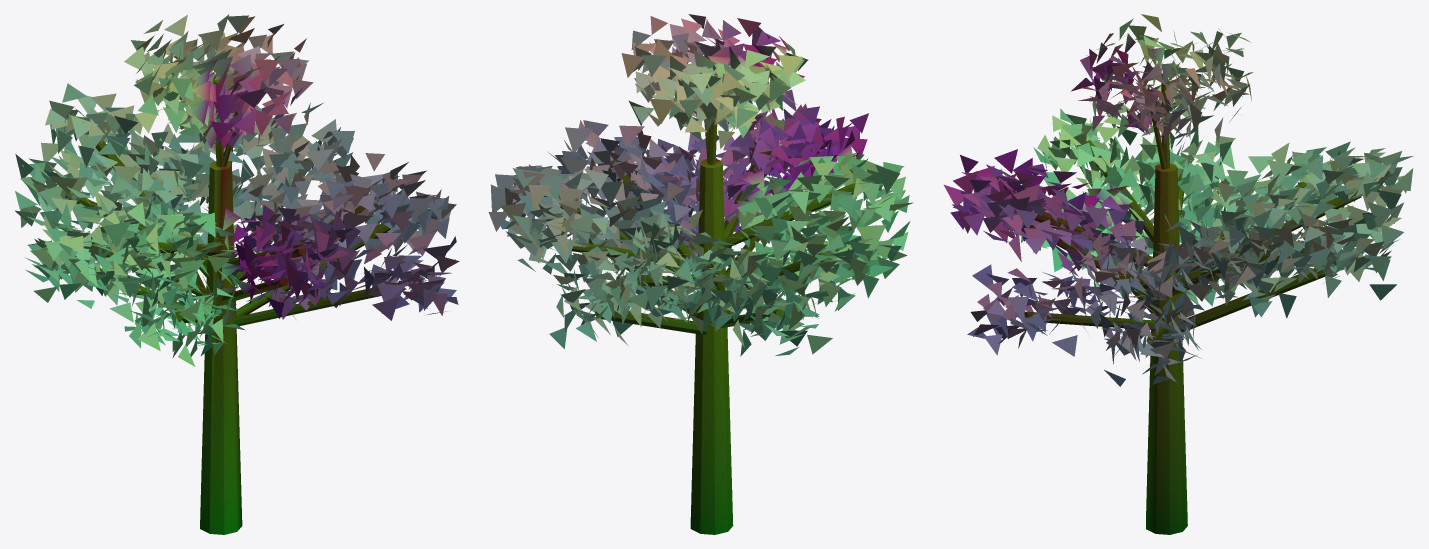
File: mature_broadleaf_04.glb
3 views of the same model, side by side, from view 1: azimuth 30°, elevation 25°; view 2: azimuth 150°, elevation 25°; view 3: azimuth 270°, elevation 25° (orthographic).
Parts seen in each view (by area): view 1: mature_broadleaf_04; view 2: mature_broadleaf_04; view 3: mature_broadleaf_04.
Part boxes in pixels (bbox=[...]): mature_broadleaf_04: bbox=[15, 14, 459, 534]; mature_broadleaf_04: bbox=[488, 14, 913, 534]; mature_broadleaf_04: bbox=[944, 14, 1413, 534].
Bounding box in the file's own units: 15.31 × 17.72 × 15.76.
